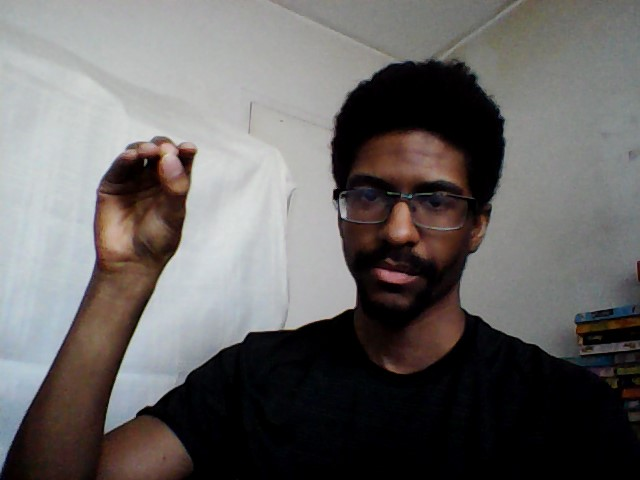o: (90, 132, 201, 270)
